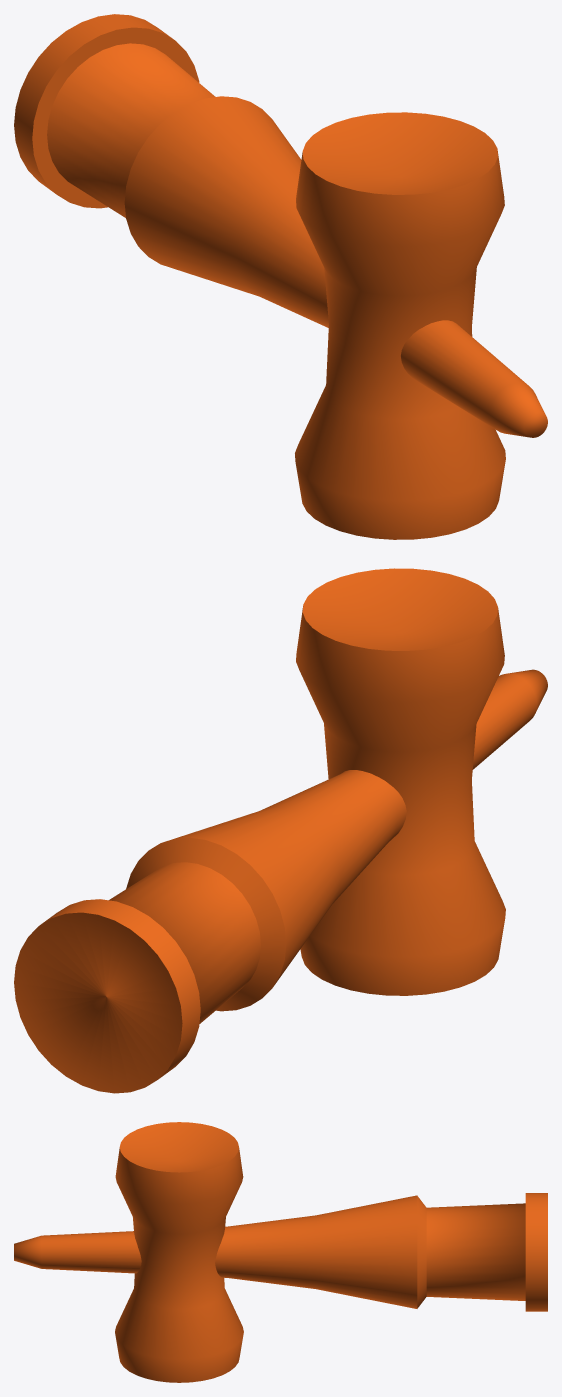
The model's file is kendama_rod.obj.
3 views of the same model, one above another, from view 1: azimuth 30°, elevation 25°; view 2: azimuth 150°, elevation 25°; view 3: azimuth 270°, elevation 25° (orthographic). The views are drawn at different scales.
Visible parts, largest first — view 1: kendama_body_Cylinder; view 2: kendama_body_Cylinder; view 3: kendama_body_Cylinder.
Boxes of the visible parts, x1,y1,x2,y2 form: kendama_body_Cylinder: (14, 14, 547, 539); kendama_body_Cylinder: (14, 568, 547, 1093); kendama_body_Cylinder: (14, 1122, 547, 1382).
Size of the model in its own units: 1.23 by 2.21 by 5.1.
